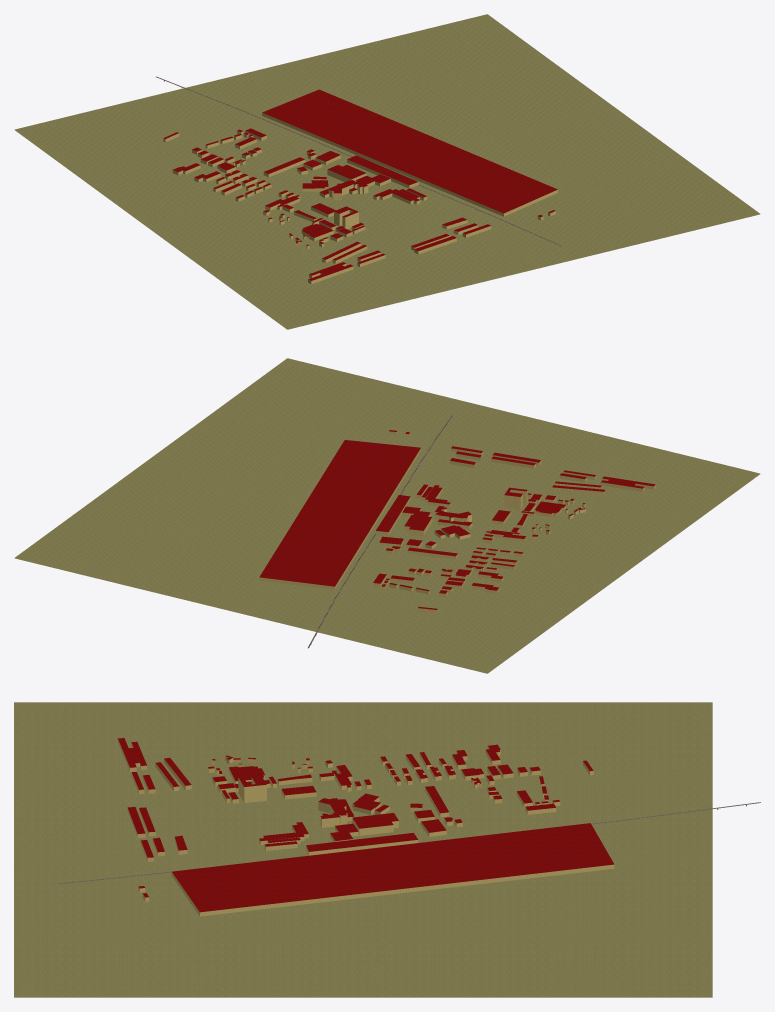
File: agargaon-osm2world.glb
3 renders of one model, top to bottom at view 1: azimuth 30°, elevation 25°; view 2: azimuth 150°, elevation 25°; view 3: azimuth 270°, elevation 25°, orthographic. The views are drawn at different scales.
Parts seen in each view (by area): view 1: SurfaceArea w-1 (×16), Building w-35, Building w-33; view 2: SurfaceArea w-1 (×16), Building w-35, Building w-33; view 3: SurfaceArea w-1 (×16), Building w-35, Building w-33, Building w-4, Building w-5, Building w-3, Building w-113.
Boxes of the visible parts, left/top/right/bottom form: SurfaceArea w-1 (×16): left=14, top=14, right=760, bottom=329; Building w-35: left=262, top=89, right=557, bottom=216; Building w-33: left=347, top=155, right=418, bottom=188; SurfaceArea w-1 (×16): left=14, top=358, right=760, bottom=673; Building w-35: left=259, top=440, right=420, bottom=589; Building w-33: left=375, top=495, right=410, bottom=535; SurfaceArea w-1 (×16): left=14, top=702, right=712, bottom=997; Building w-35: left=171, top=823, right=614, bottom=916; Building w-33: left=306, top=833, right=418, bottom=855; Building w-4: left=352, top=813, right=398, bottom=835; Building w-5: left=318, top=798, right=347, bottom=827; Building w-3: left=238, top=775, right=266, bottom=802; Building w-113: left=117, top=738, right=147, bottom=771.
Size of the model in its own units: 1140 by 31.8 by 1219.
Materials: 7 (6 with a texture image).
